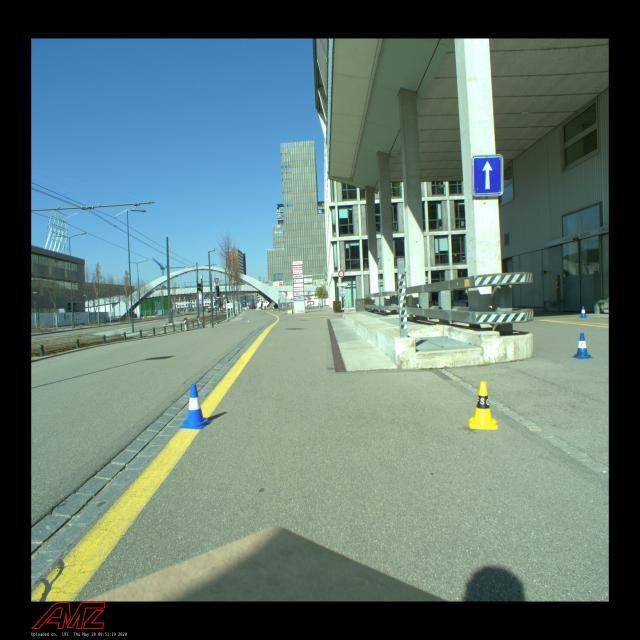blue_cone: (179, 384, 212, 429), (571, 333, 594, 359), (579, 306, 588, 318)
yellow_cone: (469, 382, 498, 429)
